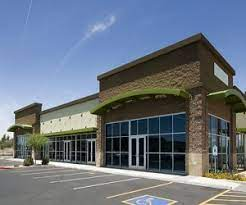Building House: (9, 33, 243, 175)
